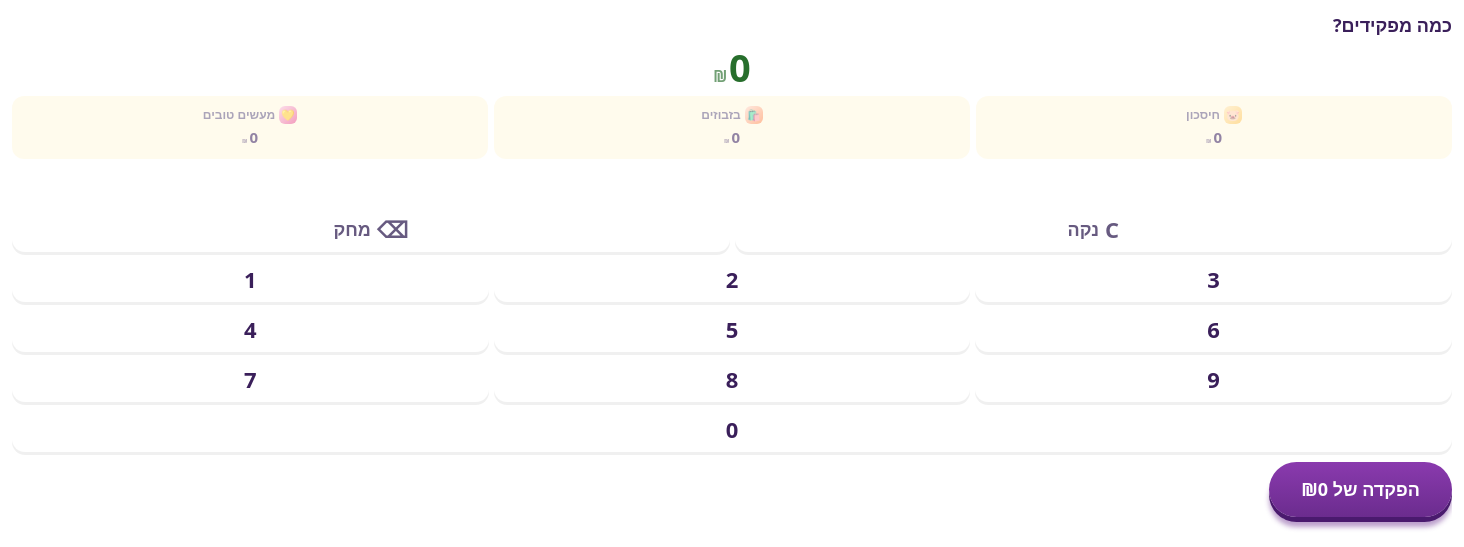
Scenario: DepositForm › clears the amount back to zero
The image size is (1464, 547).
Click the button "5" at (732, 329), box [494, 306, 970, 352]
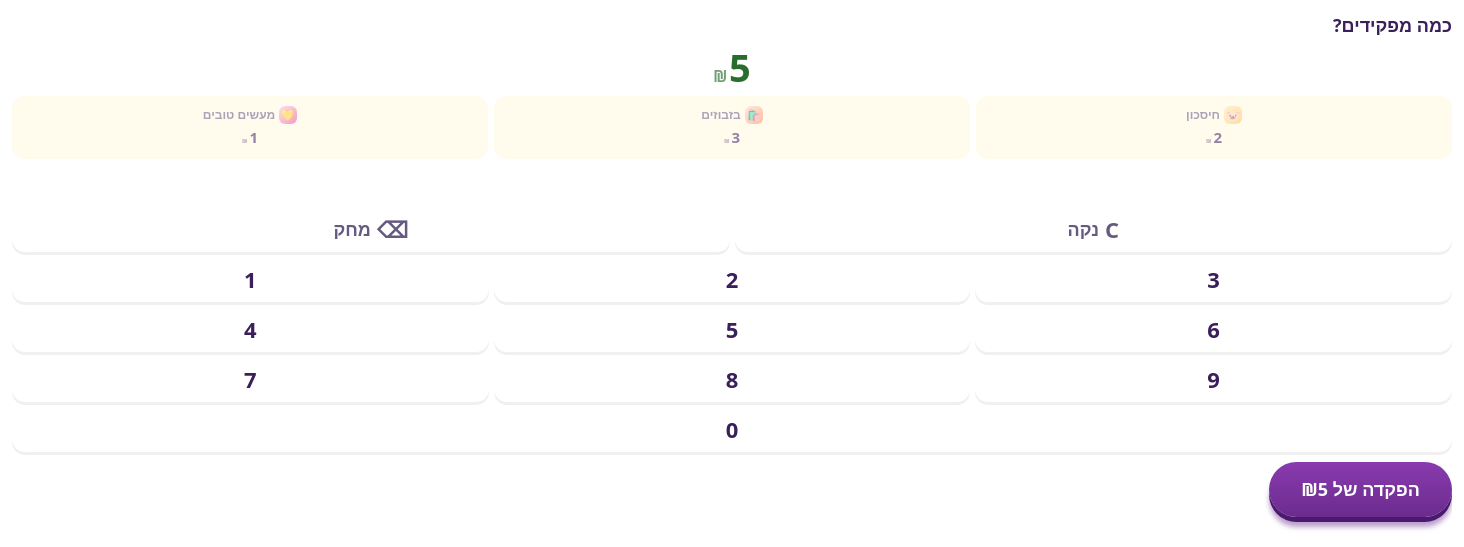
Click the button with test id "amount-pad-clear" at (1093, 229), box [734, 206, 1452, 252]
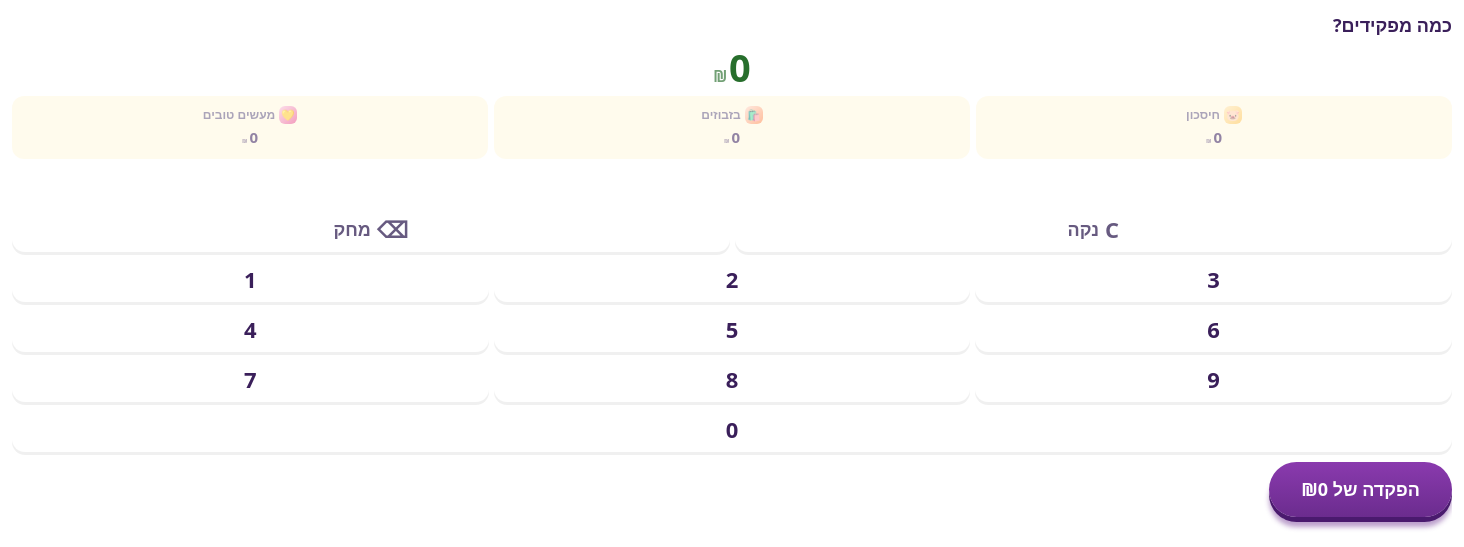
Result: the element with test id "transaction-drawer-amount" shows "0" at [729, 41, 751, 93]
